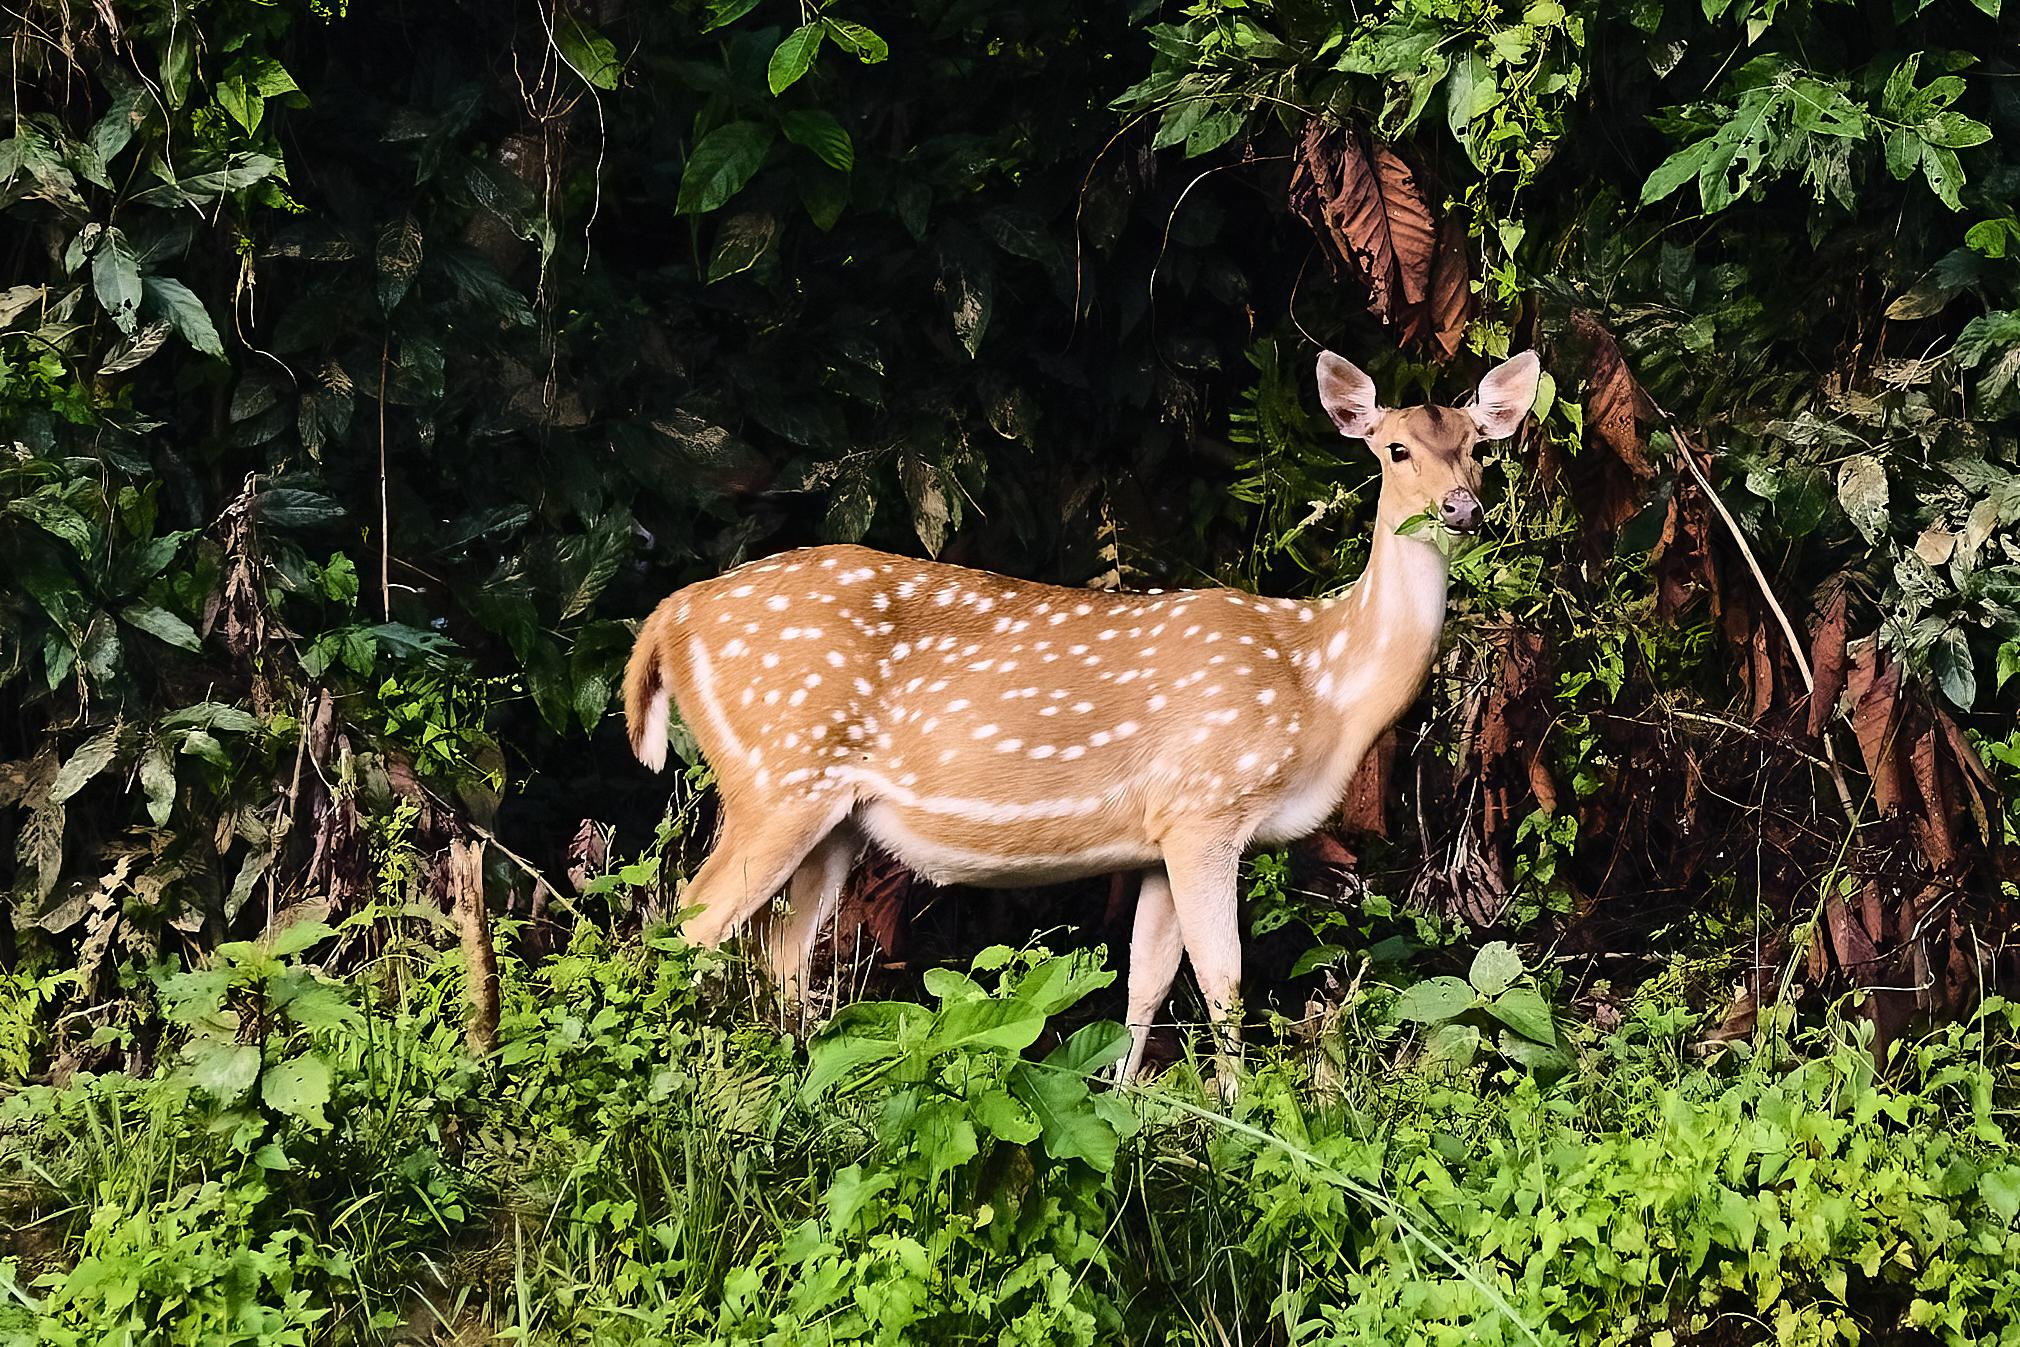Deer: (624, 352, 1541, 1079)
